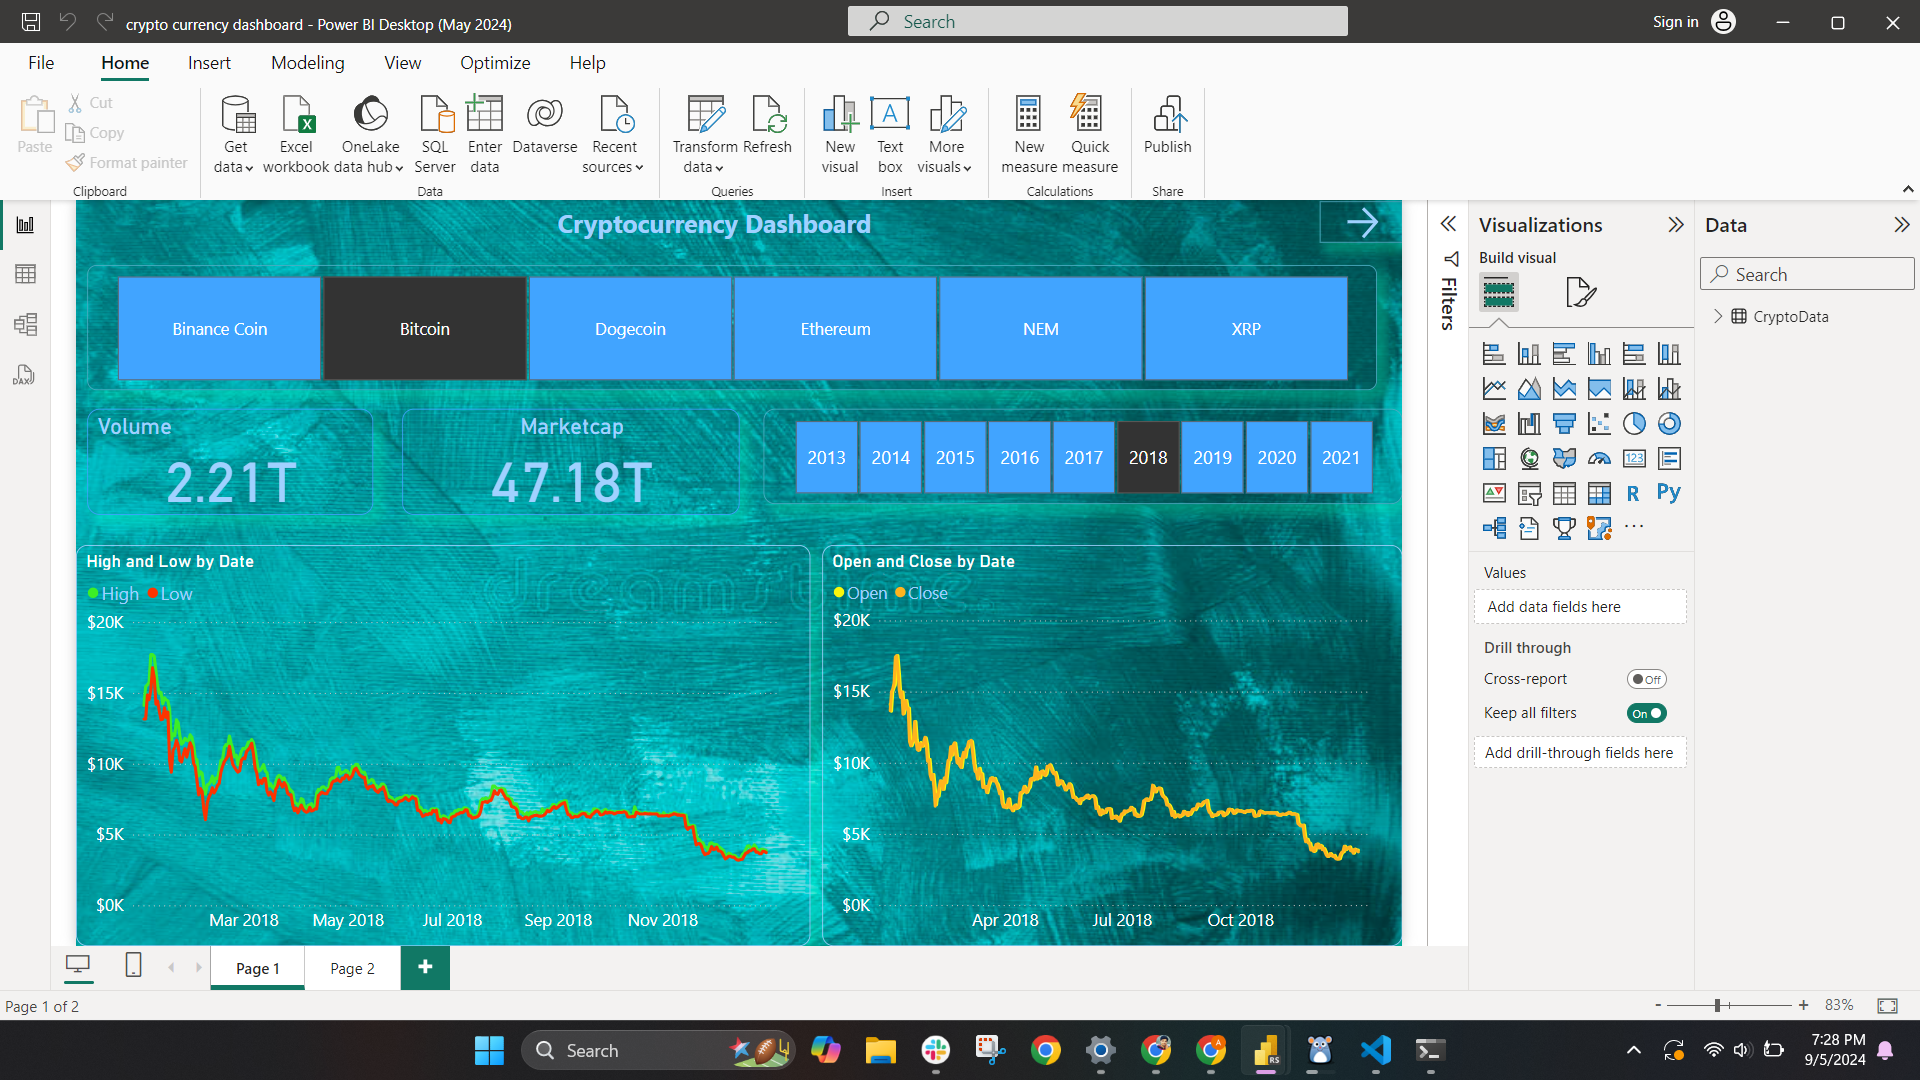

Layout of this report page (visuals, bound fields, positions):
{"tool":"powerbi","page":{"name":"Page 1","canvas":[1280,720],"ordinal":0},"visuals":[{"type":"slicer","fields":{"Values":["CryptoData.Name"]},"box":[11.3,62.4,1244.4,120.5],"z":0},{"type":"slicer","fields":{"Values":["CryptoData.Year"]},"box":[663.3,201.3,616.5,92.1],"z":1},{"type":"lineChart","fields":{"Category":["CryptoData.Date"],"Y":["Sum(CryptoData.High)","Sum(CryptoData.Low)"]},"box":[0,333.1,708.7,386.9],"z":2},{"type":"actionButton","box":[1200.1,1.4,79.9,40],"z":3},{"type":"card","title":"Marketcap","fields":{"Values":["Sum(CryptoData.Marketcap)"]},"box":[314.6,201.3,326,102],"z":4},{"type":"lineChart","fields":{"Category":["CryptoData.Date"],"Y":["Sum(CryptoData.Open)","Sum(CryptoData.Close)"]},"box":[720,333.1,559.8,386.9],"z":5},{"type":"card","title":"Volume","fields":{"Values":["Sum(CryptoData.Volume)"]},"box":[11.3,201.3,276.4,102],"z":6},{"type":"textbox","box":[459.2,1.4,333.1,49.6],"z":7}]}

Visuals, with their boxes on the page's 1280x720 design canvas (x1, y1, x2, y2). These are canvas units, not pixel positions in the 1920x1080 screenshot, which may show the page scaled, cropped or inside an application window:
slicer - CryptoData.Name: box(11, 62, 1256, 183)
slicer - CryptoData.Year: box(663, 201, 1280, 293)
lineChart - CryptoData.Date x Sum(CryptoData.High): box(0, 333, 709, 720)
actionButton: box(1200, 1, 1280, 41)
"Marketcap" card: box(315, 201, 641, 303)
lineChart - CryptoData.Date x Sum(CryptoData.Open): box(720, 333, 1280, 720)
"Volume" card: box(11, 201, 288, 303)
textbox: box(459, 1, 792, 51)
